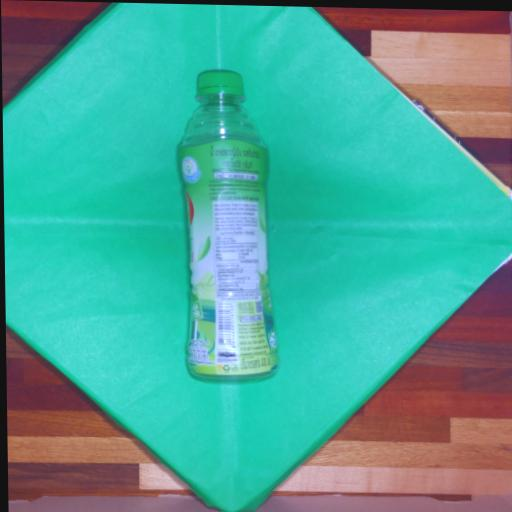bottle: (178, 71, 277, 386)
